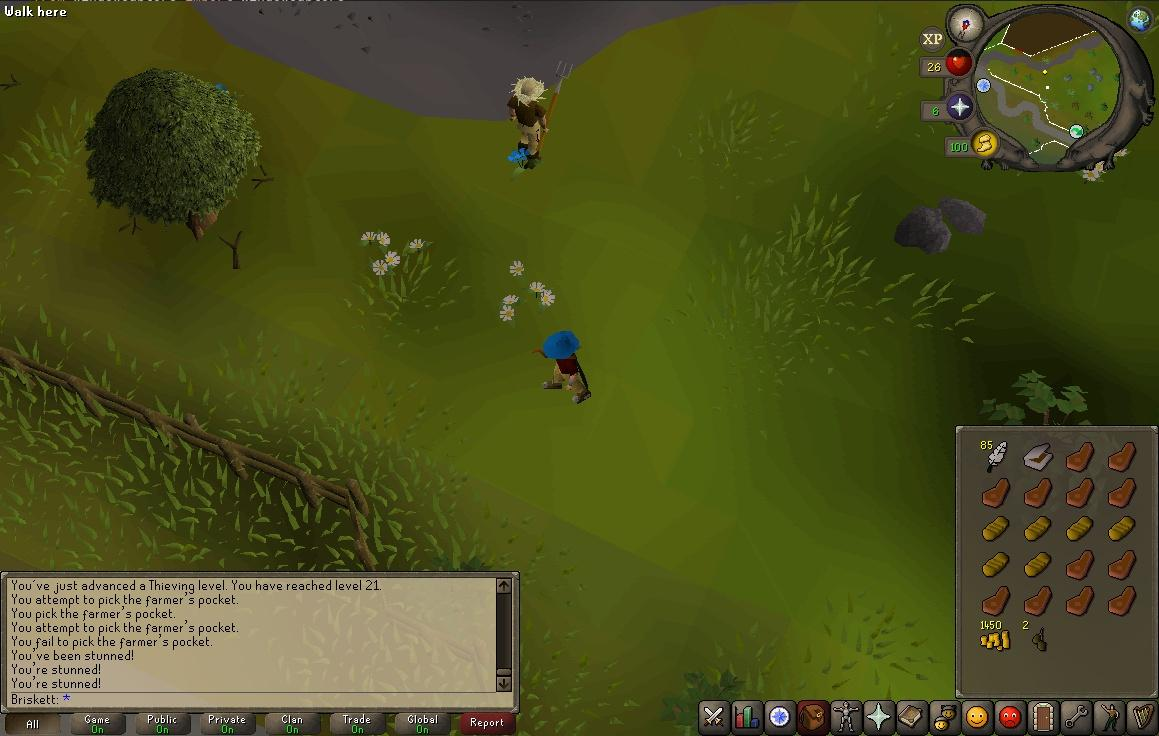Farmer: (506, 76, 549, 169)
